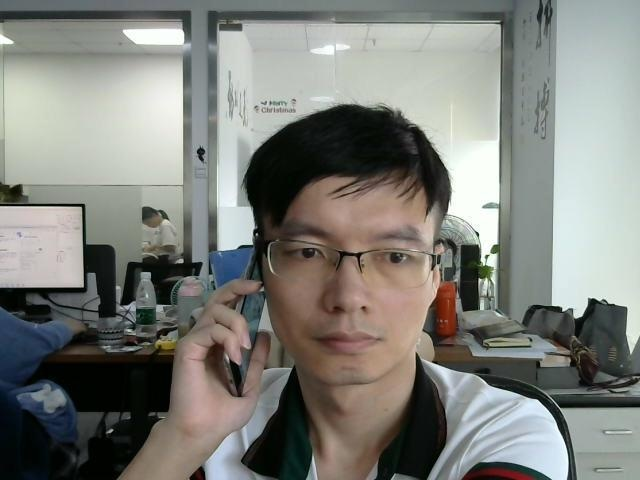hand: (169, 274, 271, 420)
